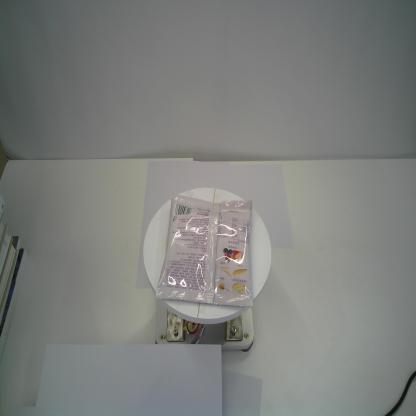Instant Drink: (154, 192, 255, 309)
